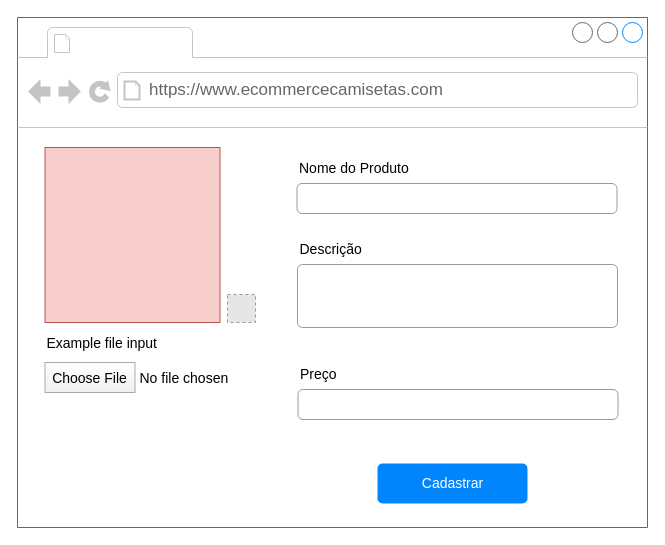
Image size: 665x545. Some labels were removed from this diagram. Grey dashed boxes stand in for pictures. The box of each missing label's shape, as (x1, y1, x2, y2) in pixels:
Adicionar Produto: (76, 28, 188, 56)
Foto do Produto: (44, 146, 220, 322)
